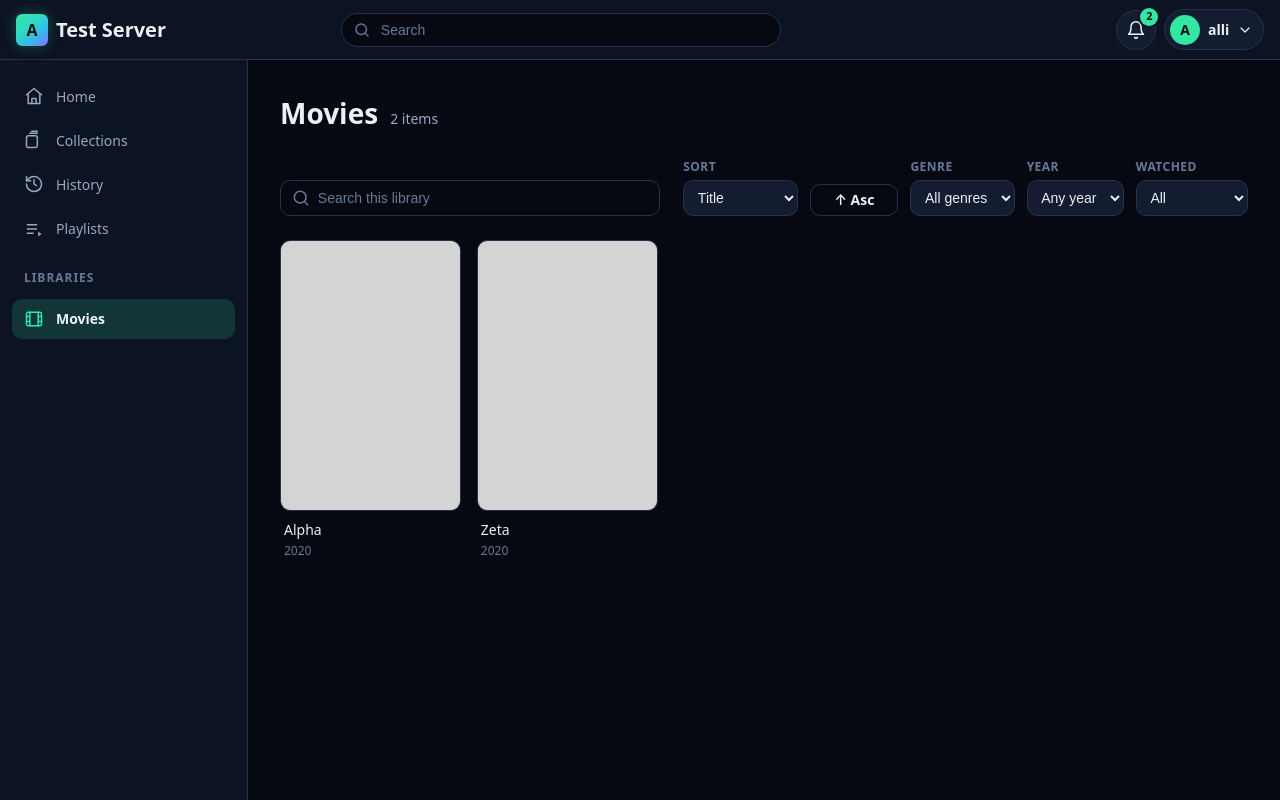
LibraryPage — toolbar controls › debounces the search box, then updates the request and URL
Expected: the text "Alpha" is shown, x1=284 y1=520 x2=322 y2=539
Type "Zeta" into the search field labelled "Search this library" at (470, 198), box x1=280 y1=180 x2=660 y2=216
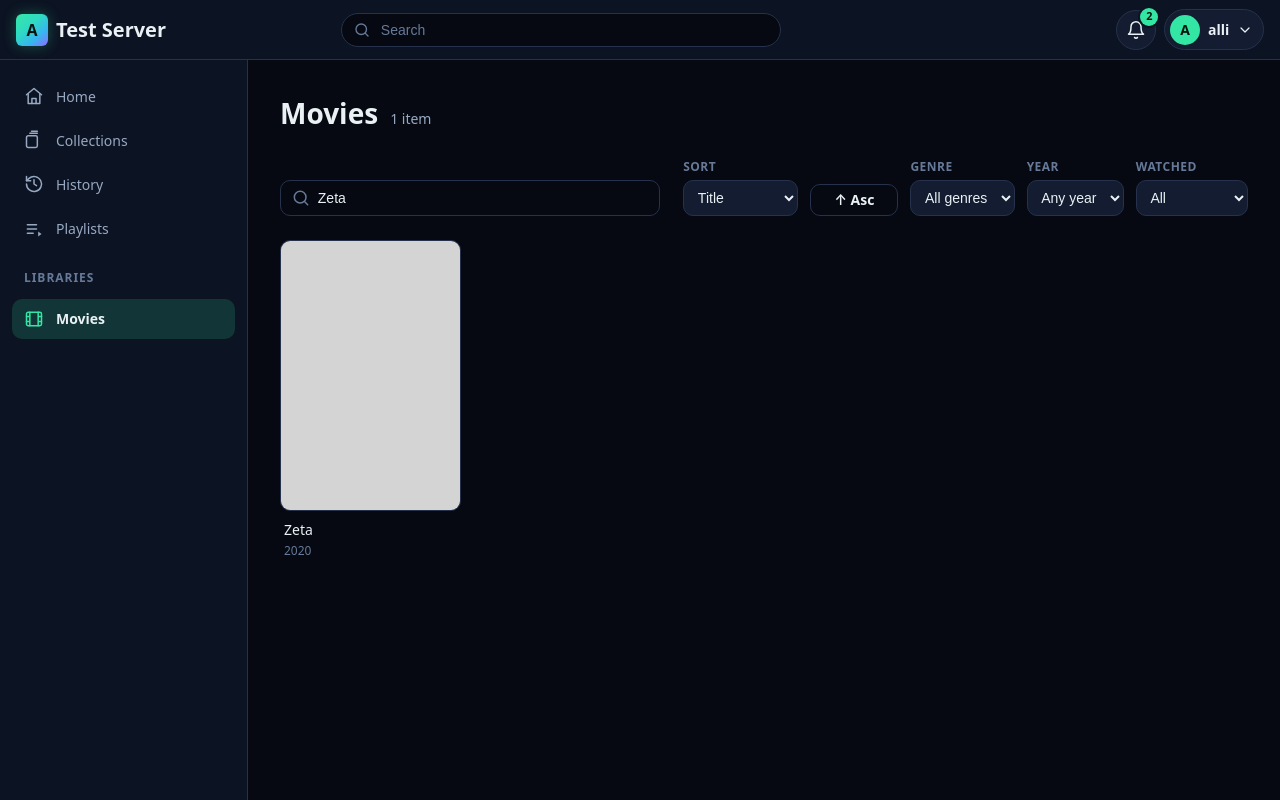
Expected: the text "Zeta" is shown, x1=284 y1=520 x2=313 y2=539
Expected: the link "Alpha" is gone
